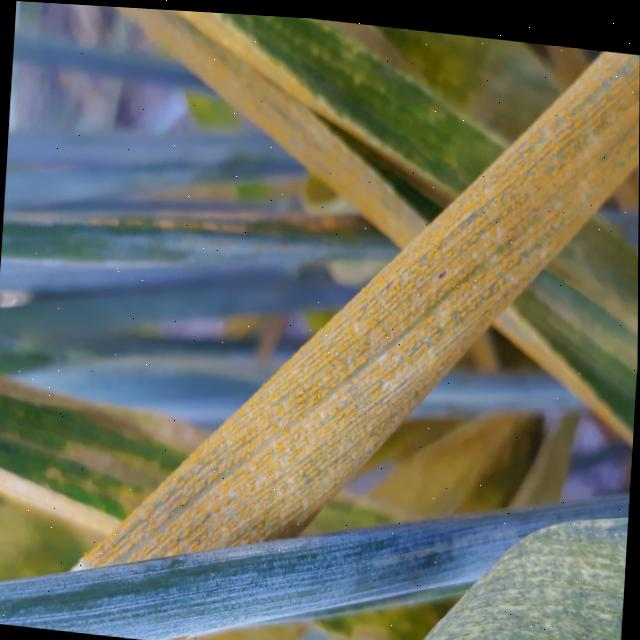yellow_rust: (73, 4, 640, 640), (0, 368, 201, 551)
